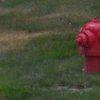Hydrant: (70, 12, 100, 80)
